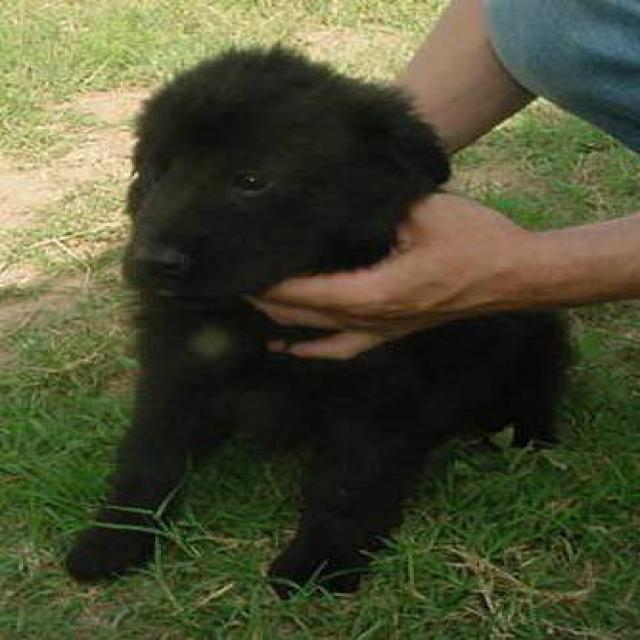dog: (63, 41, 575, 599)
